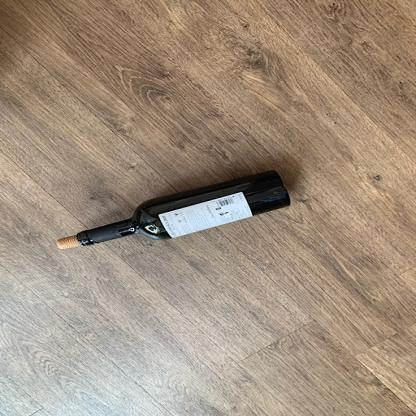trash: (76, 168, 300, 250)
